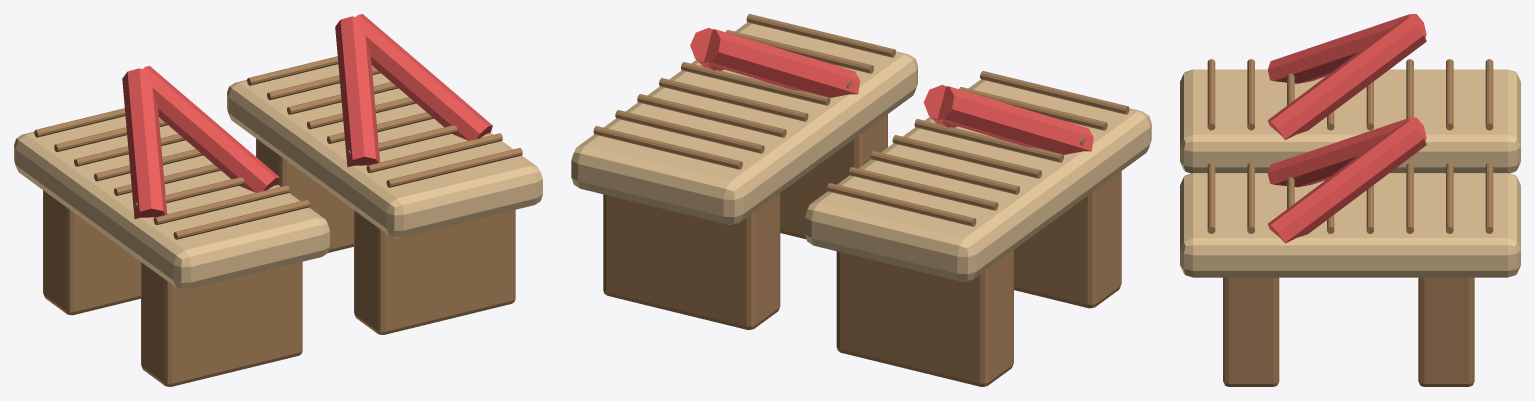
File: costume_geta_festival.glb
3 renders of one model, left to right at view 1: azimuth 30°, elevation 25°; view 2: azimuth 150°, elevation 25°; view 3: azimuth 270°, elevation 25°, orthographic. The views are drawn at different scales.
Visible parts, largest first — view 1: Traditional festival geta sandal wooden sole.001, Traditional festival geta sandal wooden sole, Carved geta heel tooth.002, Carved geta heel tooth, Carved geta heel tooth.001, Thick vermilion hanao strap_01, Thick vermilion hanao strap_01.001, Thick vermilion hanao strap_00, Thick vermilion hanao strap_00.001, Carved geta heel tooth.003, Geta grain.001, Geta grain.008 (+14 smaller); view 2: Traditional festival geta sandal wooden sole, Traditional festival geta sandal wooden sole.001, Carved geta heel tooth.003, Carved geta heel tooth.001, Carved geta heel tooth, Thick vermilion hanao strap_00.001, Thick vermilion hanao strap_00, Carved geta heel tooth.002, Geta grain.004, Geta grain.006, Geta grain.008, Geta grain.005 (+12 smaller); view 3: Traditional festival geta sandal wooden sole.001, Traditional festival geta sandal wooden sole, Carved geta heel tooth.002, Carved geta heel tooth.003, Thick vermilion hanao strap_01.001, Thick vermilion hanao strap_01, Thick vermilion hanao strap_00.001, Thick vermilion hanao strap_00, Geta grain, Geta grain.007, Geta grain.008, Geta grain.015 (+8 smaller).
Part boxes in pixels (<box>): Traditional festival geta sandal wooden sole.001: <box>227,64,542,237</box>; Traditional festival geta sandal wooden sole: <box>14,116,329,289</box>; Carved geta heel tooth.002: <box>354,210,515,334</box>; Carved geta heel tooth: <box>141,262,302,386</box>; Carved geta heel tooth.001: <box>43,190,140,315</box>; Thick vermilion hanao strap_01: <box>143,66,279,192</box>; Thick vermilion hanao strap_01.001: <box>356,14,492,140</box>; Thick vermilion hanao strap_00: <box>122,68,167,218</box>; Thick vermilion hanao strap_00.001: <box>335,16,379,167</box>; Carved geta heel tooth.003: <box>256,138,353,252</box>; Geta grain.001: <box>153,185,289,224</box>; Geta grain.008: <box>386,148,522,187</box>; Traditional festival geta sandal wooden sole: <box>805,79,1151,281</box>; Traditional festival geta sandal wooden sole.001: <box>571,22,917,224</box>; Carved geta heel tooth.003: <box>603,193,780,329</box>; Carved geta heel tooth.001: <box>836,250,1013,386</box>; Carved geta heel tooth: <box>1014,171,1121,308</box>; Thick vermilion hanao strap_00.001: <box>700,29,860,97</box>; Thick vermilion hanao strap_00: <box>934,86,1093,154</box>; Carved geta heel tooth.002: <box>780,114,887,239</box>; Geta grain.004: <box>892,135,1041,178</box>; Geta grain.006: <box>849,167,998,210</box>; Geta grain.008: <box>746,14,895,57</box>; Geta grain.005: <box>870,151,1019,194</box>; Traditional festival geta sandal wooden sole.001: <box>1180,173,1520,277</box>; Traditional festival geta sandal wooden sole: <box>1180,69,1520,173</box>; Carved geta heel tooth.002: <box>1223,277,1279,386</box>; Carved geta heel tooth.003: <box>1418,277,1474,386</box>; Thick vermilion hanao strap_01.001: <box>1267,120,1426,243</box>; Thick vermilion hanao strap_01: <box>1267,17,1426,139</box>; Thick vermilion hanao strap_00.001: <box>1267,117,1426,187</box>; Thick vermilion hanao strap_00: <box>1267,14,1426,83</box>; Geta grain: <box>1207,59,1215,130</box>; Geta grain.007: <box>1485,59,1493,130</box>; Geta grain.008: <box>1207,162,1215,233</box>; Geta grain.015: <box>1485,162,1493,233</box>.
Bounding box in the file's own units: 1.95 × 1.2 × 1.57.
